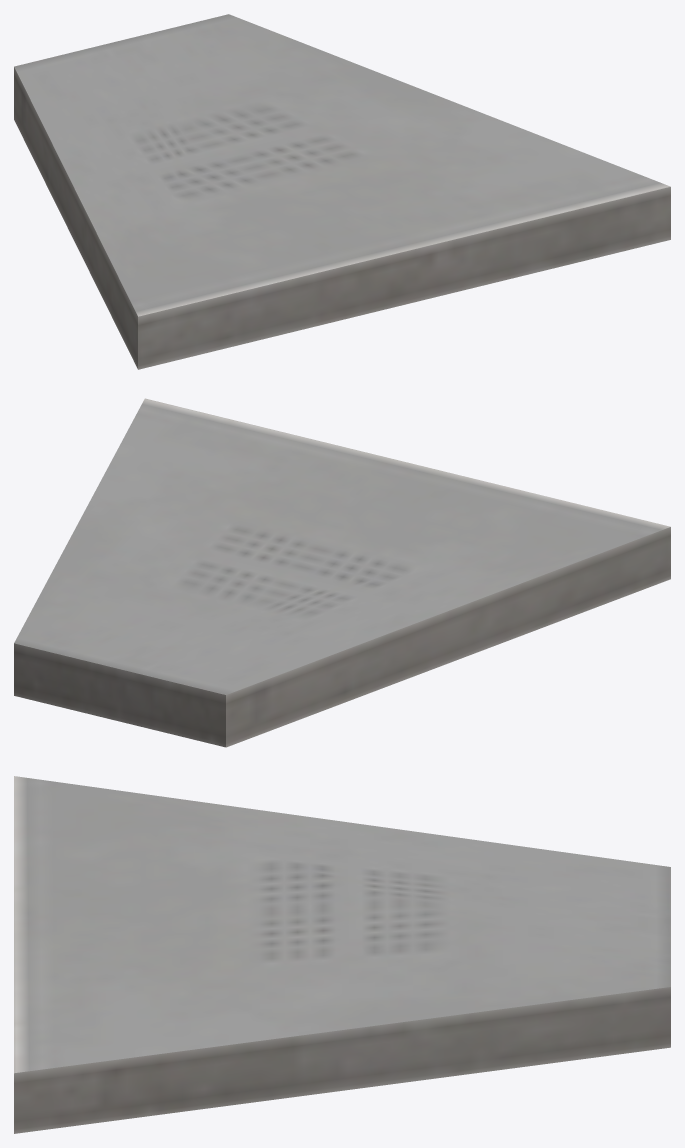
File: Colony_StairsPiece_Art.glb
3 renders of one model, top to bottom at view 1: azimuth 30°, elevation 25°; view 2: azimuth 150°, elevation 25°; view 3: azimuth 270°, elevation 25°, orthographic. The views are drawn at different scales.
Parts seen in each view (by area): view 1: Colony_StairsPiece_Art; view 2: Colony_StairsPiece_Art; view 3: Colony_StairsPiece_Art.
Boxes of the visible parts, x1,y1,x2,y2 form: Colony_StairsPiece_Art: [14, 14, 670, 369]; Colony_StairsPiece_Art: [14, 398, 670, 747]; Colony_StairsPiece_Art: [14, 776, 670, 1133].
Bounding box in the file's own units: 3.16 × 0.3014 × 2.96.
Materials: 1 (1 with a texture image).
